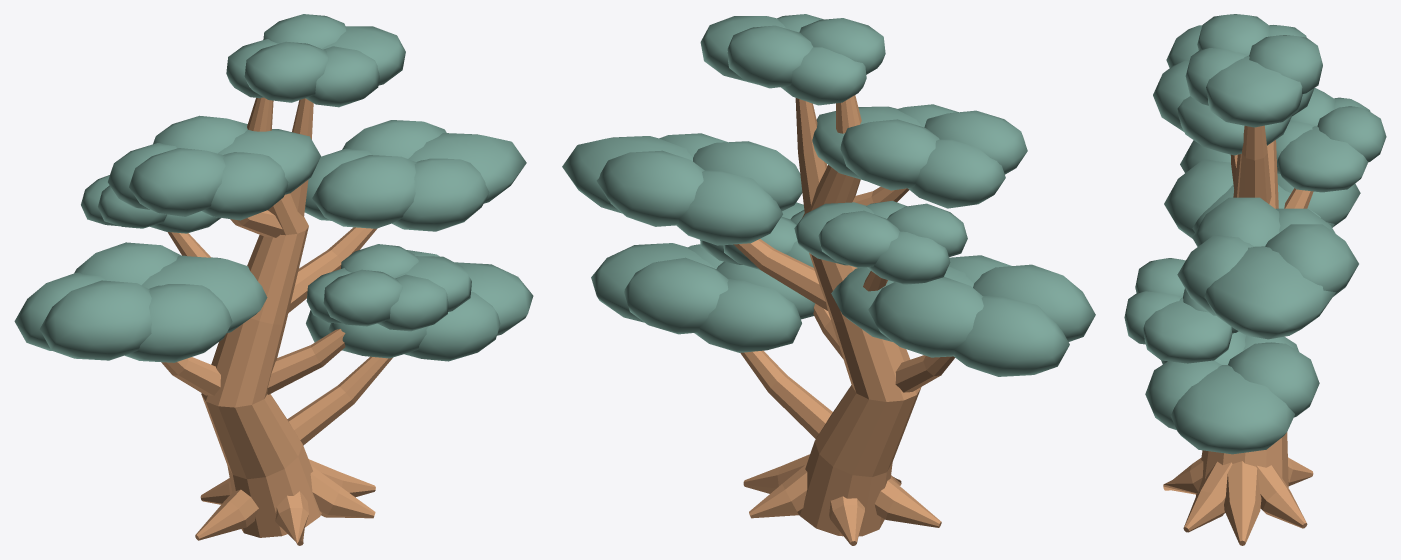
File: Test_CheonRef_PineB.fbx
The picture shows the model from 3 angles, left to right: view 1: azimuth 30°, elevation 25°; view 2: azimuth 150°, elevation 25°; view 3: azimuth 270°, elevation 25°; orthographic projection. The views are drawn at different scales.
Parts seen in each view (by area): view 1: CurvedPineTrunk.001, VolumePineCanopy.043, VolumePineCanopy.048, VolumePineCanopy.044, VolumePineCanopy.053, VolumePineCanopy.049, VolumePineCanopy.040, VolumePineCanopy.054, VolumePineCanopy.058, VolumePineCanopy.045, VolumePineCanopy.039, VolumePineCanopy.063 (+30 smaller); view 2: CurvedPineTrunk.001, VolumePineCanopy.041, VolumePineCanopy.042, VolumePineCanopy.046, VolumePineCanopy.036, VolumePineCanopy.047, VolumePineCanopy.037, VolumePineCanopy.051, VolumePineCanopy.043, VolumePineCanopy.052, VolumePineCanopy.056, VolumePineCanopy.048 (+25 smaller); view 3: VolumePineCanopy.045, VolumePineCanopy.035, VolumePineCanopy.055, VolumePineCanopy.060, VolumePineCanopy.065, VolumePineCanopy.046, VolumePineCanopy.036, VolumePineCanopy.048, VolumePineCanopy.044, VolumePineCanopy.049, VolumePineCanopy.056, VolumePineCanopy.050 (+25 smaller).
Part boxes in pixels (<box>): CurvedPineTrunk.001: <box>201,97,321,537</box>; VolumePineCanopy.043: <box>39,280,151,360</box>; VolumePineCanopy.048: <box>312,155,416,228</box>; VolumePineCanopy.044: <box>125,284,232,362</box>; VolumePineCanopy.053: <box>129,148,225,216</box>; VolumePineCanopy.049: <box>392,158,489,231</box>; VolumePineCanopy.040: <box>141,255,267,332</box>; VolumePineCanopy.054: <box>202,152,288,220</box>; VolumePineCanopy.058: <box>244,41,328,102</box>; VolumePineCanopy.045: <box>408,133,526,203</box>; VolumePineCanopy.039: <box>404,291,500,361</box>; VolumePineCanopy.063: <box>323,269,402,326</box>; CurvedPineTrunk.001: <box>799,95,921,536</box>; VolumePineCanopy.041: <box>868,277,983,357</box>; VolumePineCanopy.042: <box>953,295,1069,376</box>; VolumePineCanopy.046: <box>596,150,704,226</box>; VolumePineCanopy.036: <box>624,257,728,334</box>; VolumePineCanopy.047: <box>676,170,782,245</box>; VolumePineCanopy.037: <box>694,279,801,352</box>; VolumePineCanopy.051: <box>840,119,939,190</box>; VolumePineCanopy.043: <box>973,264,1095,341</box>; VolumePineCanopy.052: <box>908,139,1005,208</box>; VolumePineCanopy.056: <box>727,25,812,88</box>; VolumePineCanopy.048: <box>693,141,802,211</box>; VolumePineCanopy.045: <box>1204,246,1335,339</box>; VolumePineCanopy.035: <box>1170,365,1294,454</box>; VolumePineCanopy.055: <box>1206,55,1302,127</box>; VolumePineCanopy.060: <box>1143,297,1232,363</box>; VolumePineCanopy.065: <box>1277,126,1368,192</box>; VolumePineCanopy.046: <box>1265,224,1358,296</box>; VolumePineCanopy.036: <box>1228,342,1319,417</box>; VolumePineCanopy.048: <box>1192,197,1280,246</box>; VolumePineCanopy.044: <box>1164,159,1233,238</box>; VolumePineCanopy.049: <box>1177,235,1254,315</box>; VolumePineCanopy.056: <box>1249,35,1322,93</box>; VolumePineCanopy.050: <box>1177,96,1291,155</box>.
Size of the model in its own units: 578 by 546 by 264.
